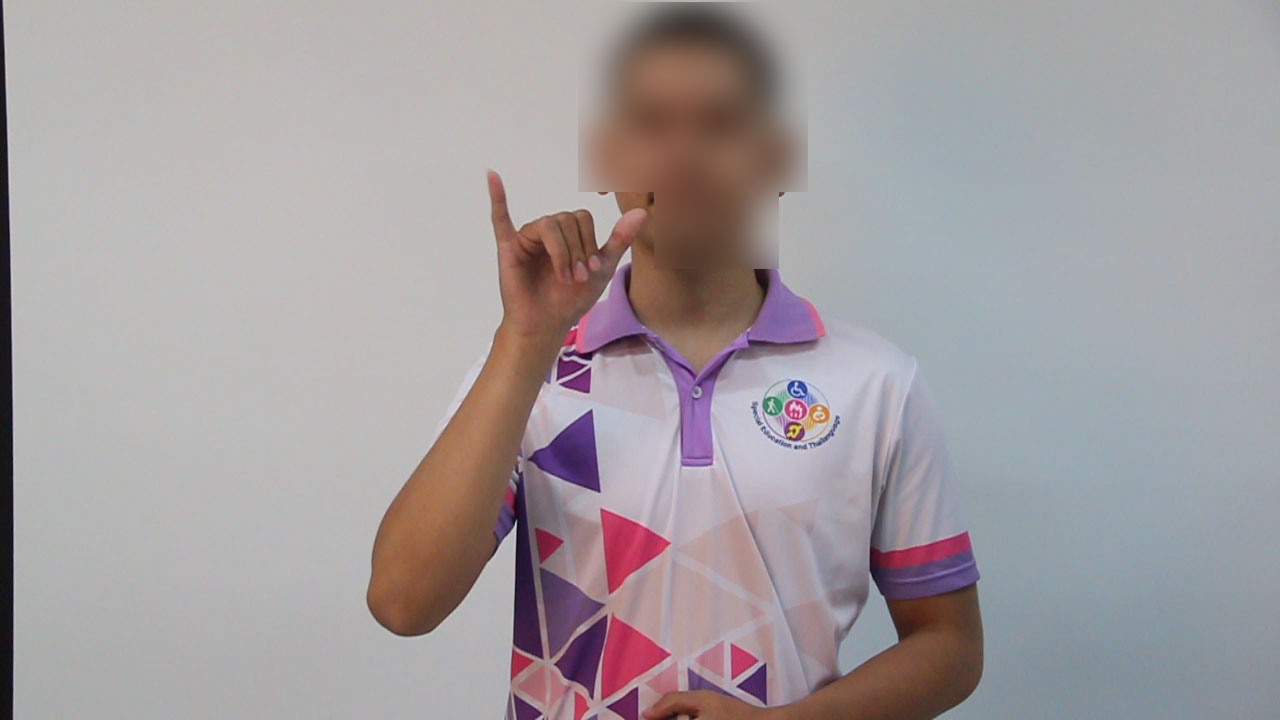yor: (476, 163, 653, 347)
